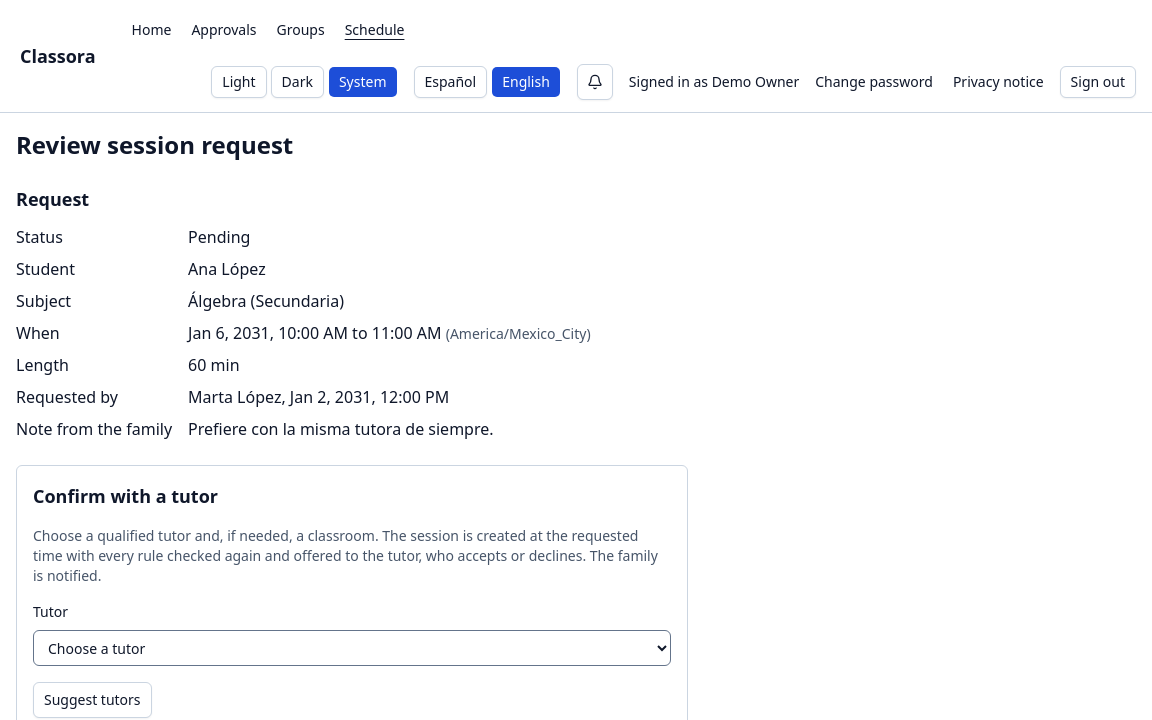
it: /schedule/requests/:id › shows the request and suggests tutors for its slot
This screenshot has width=1152, height=720.
Expected: the heading "Review session request" is shown, [16,128,293,161]
Click the button "Suggest tutors": (92, 700) [33,682,152,718]
(page scrolled)
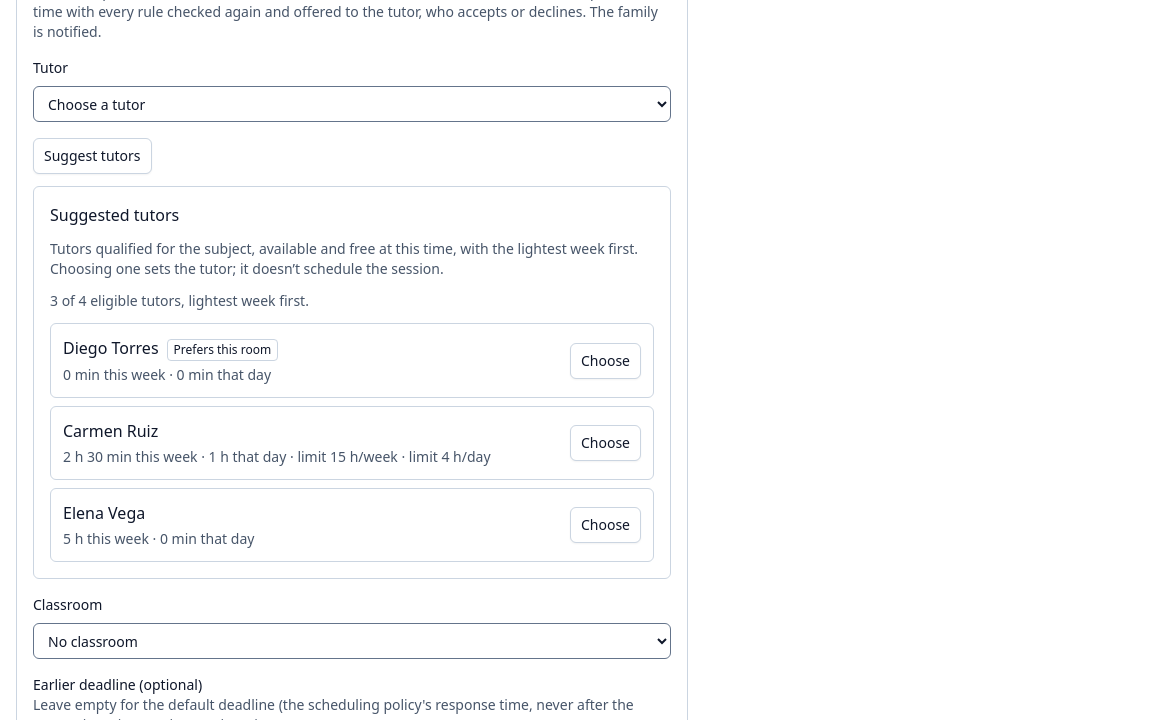
Click the button "Choose" in the row of "Diego Torres": (606, 360) [570,342,641,378]
(page scrolled)
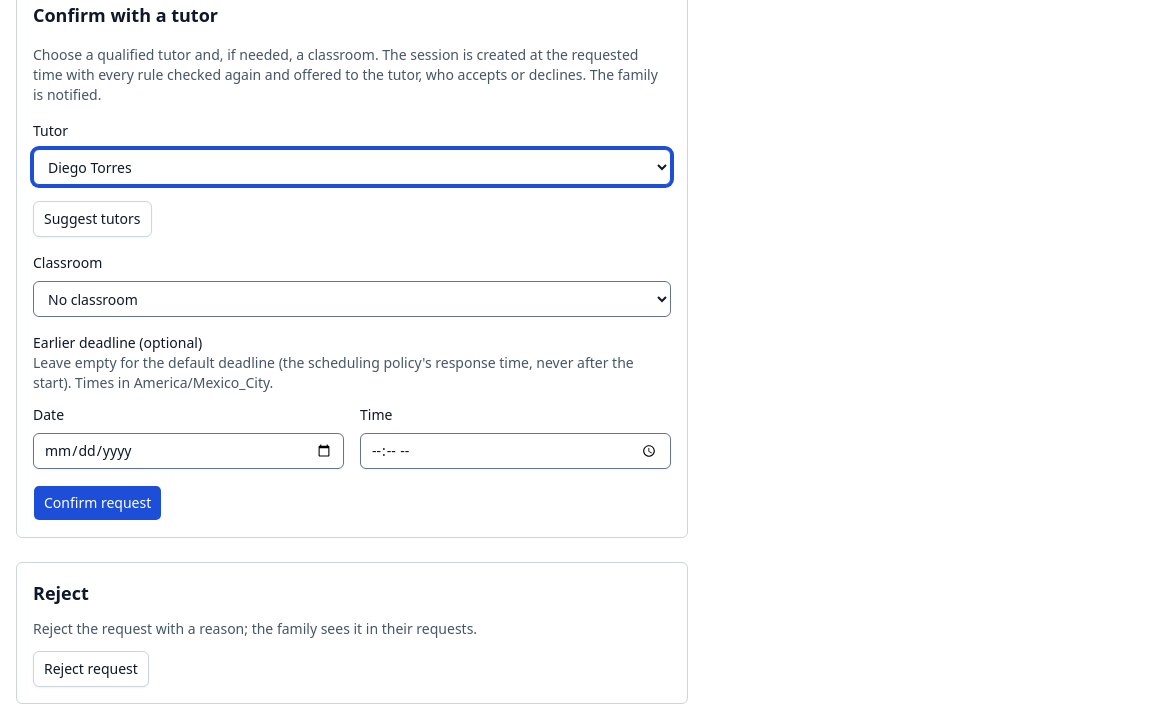
Result: the dropdown labelled "Tutor" shows "Diego Torres" at [33,149,671,185]
